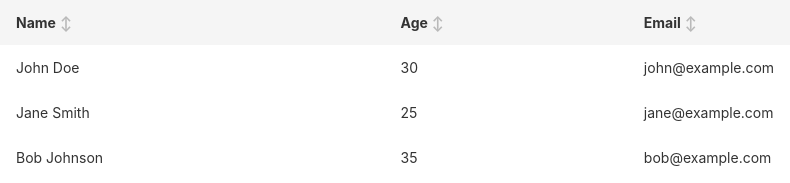
Scenario: Table › 应该支持排序
Click the column heading "Name" at [192, 22], box [0, 0, 384, 45]
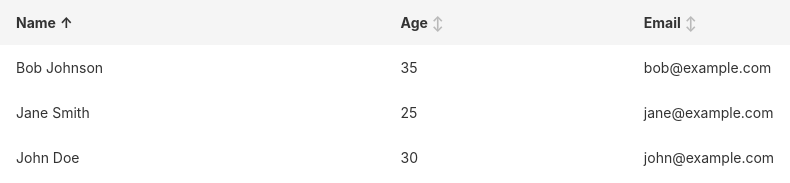
Expected: the text "↑" is shown, [60, 14, 73, 31]
